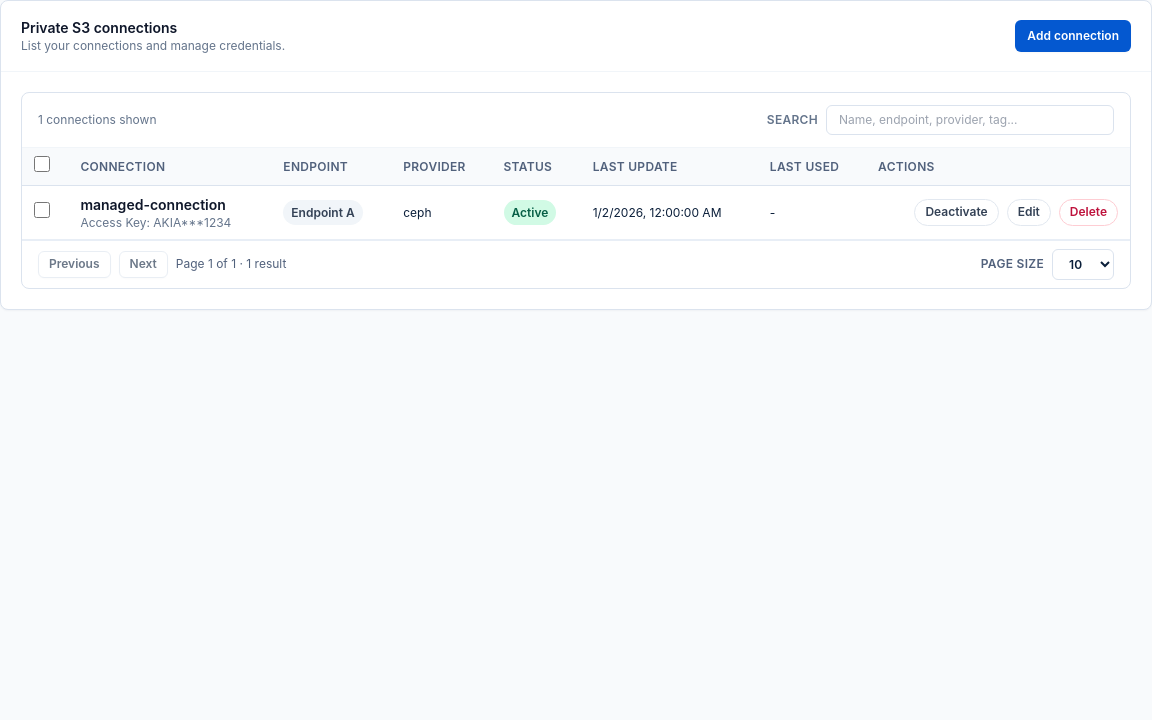
Scenario: ProfilePage live validation › shows validation error when only one credential field is provided in edit modal
The image size is (1152, 720).
Expected: the text "managed-connection" is shown, [80,196,226,213]
Click the button "Edit" at (1029, 212), box [1007,199,1051,226]
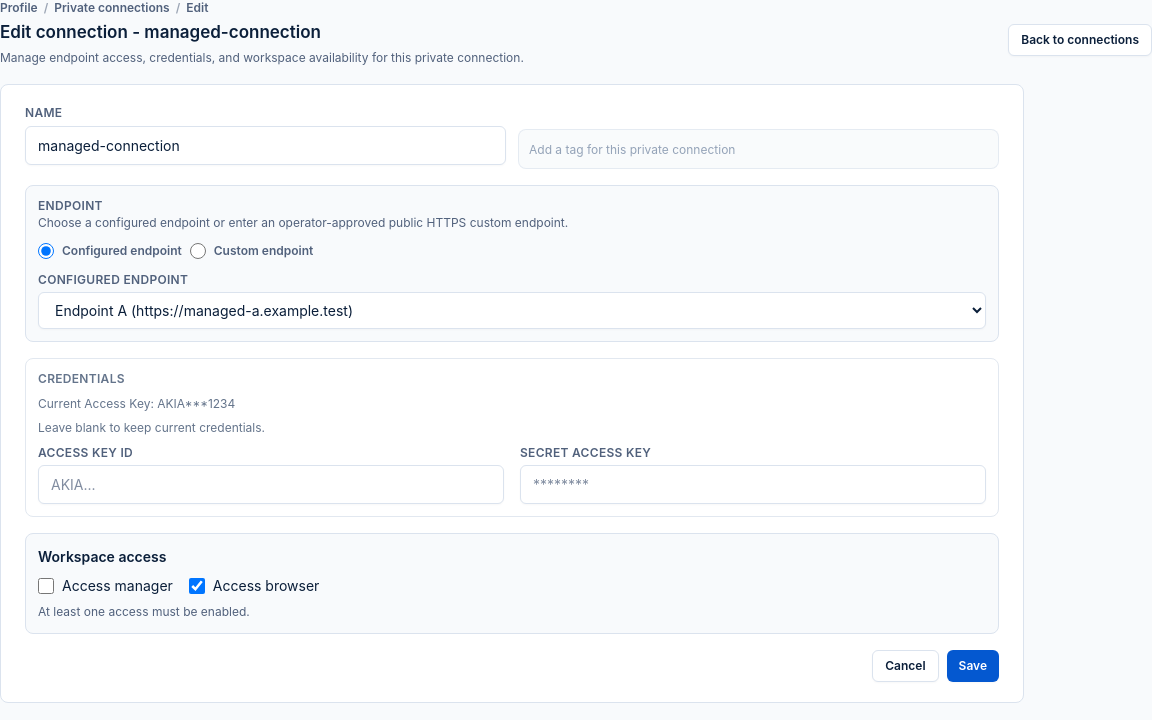
Expected: the heading "Edit connection - managed-connection" is shown, [0,20,321,44]
Click the radio button labelled "Custom endpoint" at (198, 251), box [190,243,206,259]
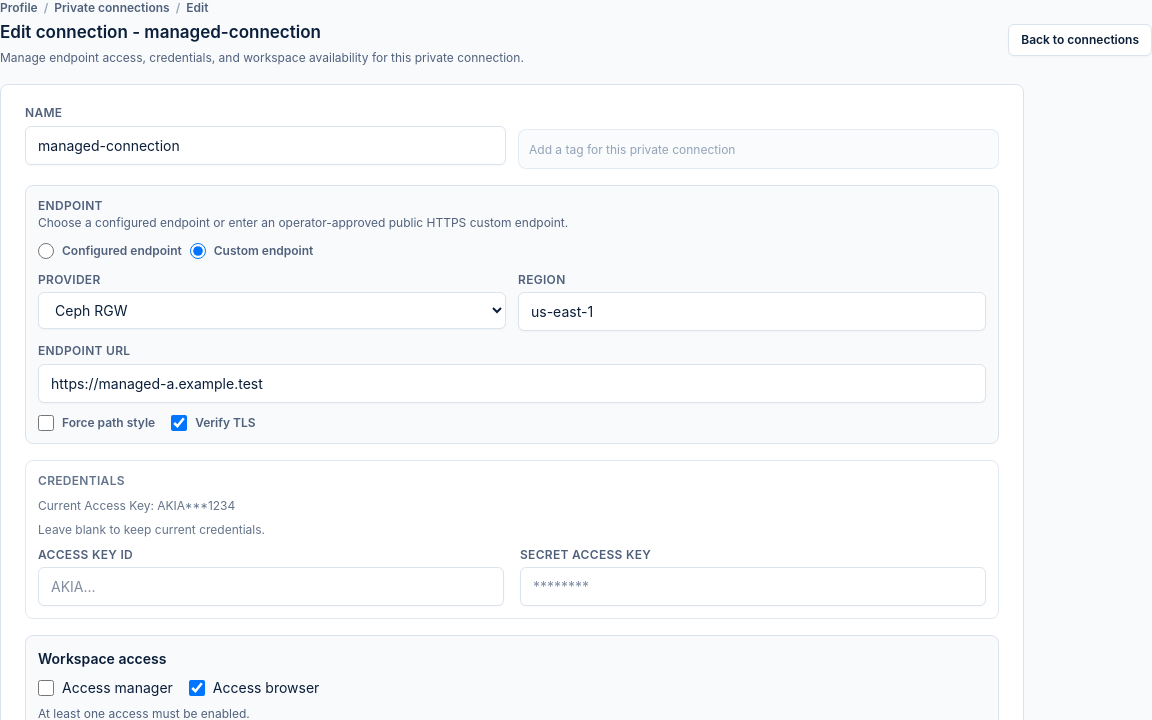
Type "AKIA-ONLY" into the field labelled "Access key ID" at (271, 586), box [38,567,504,606]
(page scrolled)
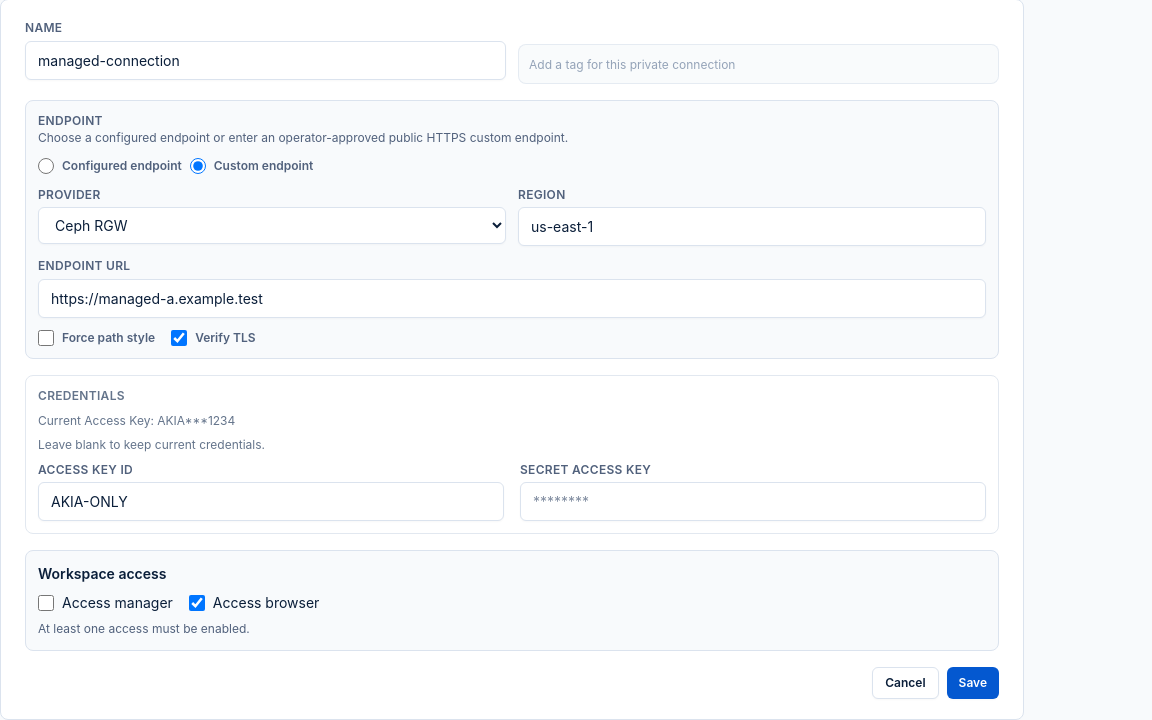
Click the button "Save" at (973, 682), box [947,666,999,698]
(page scrolled)
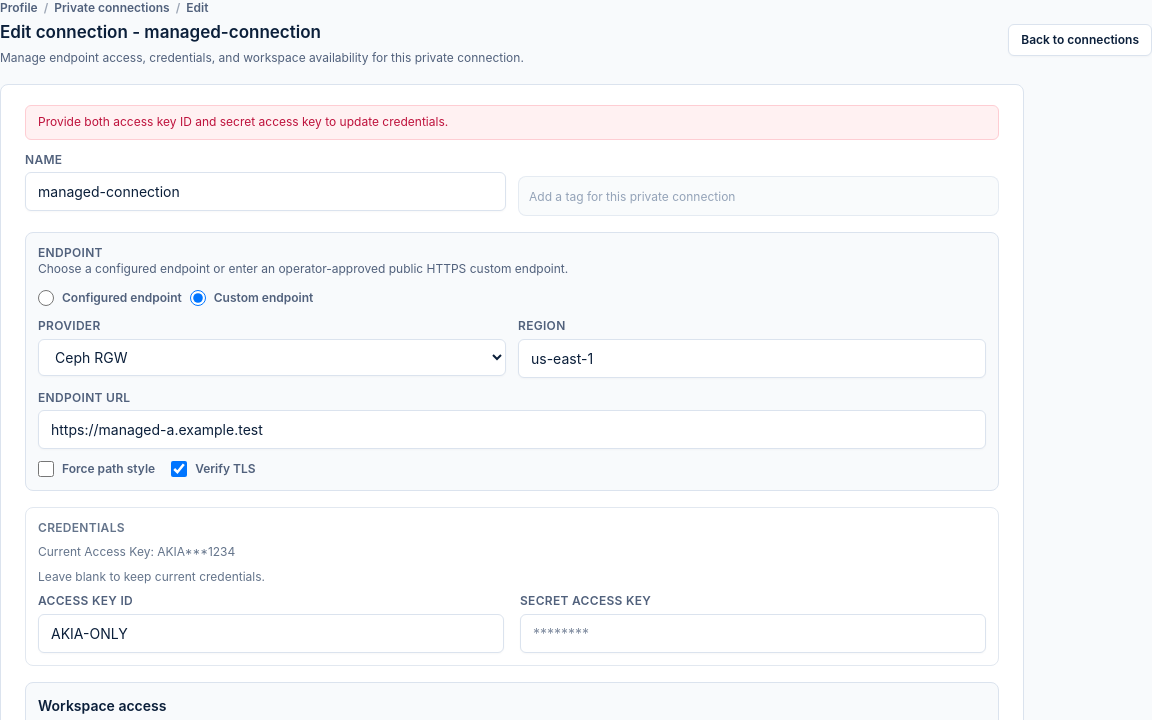
Expected: the text "Provide both access key ID and secret access key to update credentials." is shown, [25,105,999,140]
